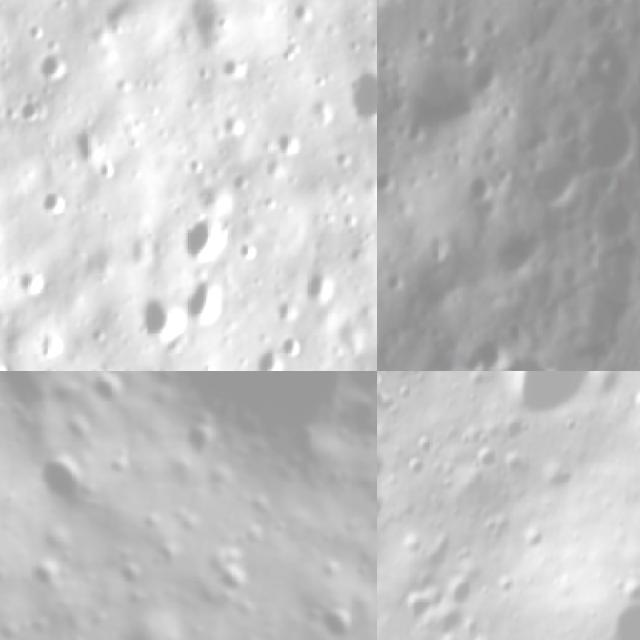crater: (71, 371, 377, 503), (561, 518, 640, 640), (482, 371, 624, 437), (24, 436, 100, 519), (410, 79, 484, 145), (573, 100, 639, 174), (180, 196, 238, 270), (107, 594, 192, 640), (198, 545, 260, 606), (614, 61, 640, 196), (47, 399, 105, 458), (388, 577, 445, 636), (527, 156, 585, 210), (180, 272, 238, 324), (429, 566, 484, 616), (345, 59, 377, 139), (309, 596, 367, 640), (34, 513, 84, 564), (85, 371, 138, 417), (177, 414, 223, 464), (496, 232, 539, 281), (142, 296, 184, 345), (377, 476, 404, 548), (5, 85, 50, 128), (26, 552, 68, 598), (491, 348, 571, 371), (143, 534, 185, 577), (108, 553, 150, 596), (168, 503, 209, 546), (101, 446, 142, 486), (308, 548, 347, 590), (470, 326, 506, 371), (34, 179, 70, 217), (465, 168, 501, 205), (35, 47, 72, 80), (469, 61, 505, 94), (619, 449, 640, 504), (377, 163, 398, 197), (623, 8, 640, 48), (269, 513, 291, 538), (0, 632, 27, 640)
